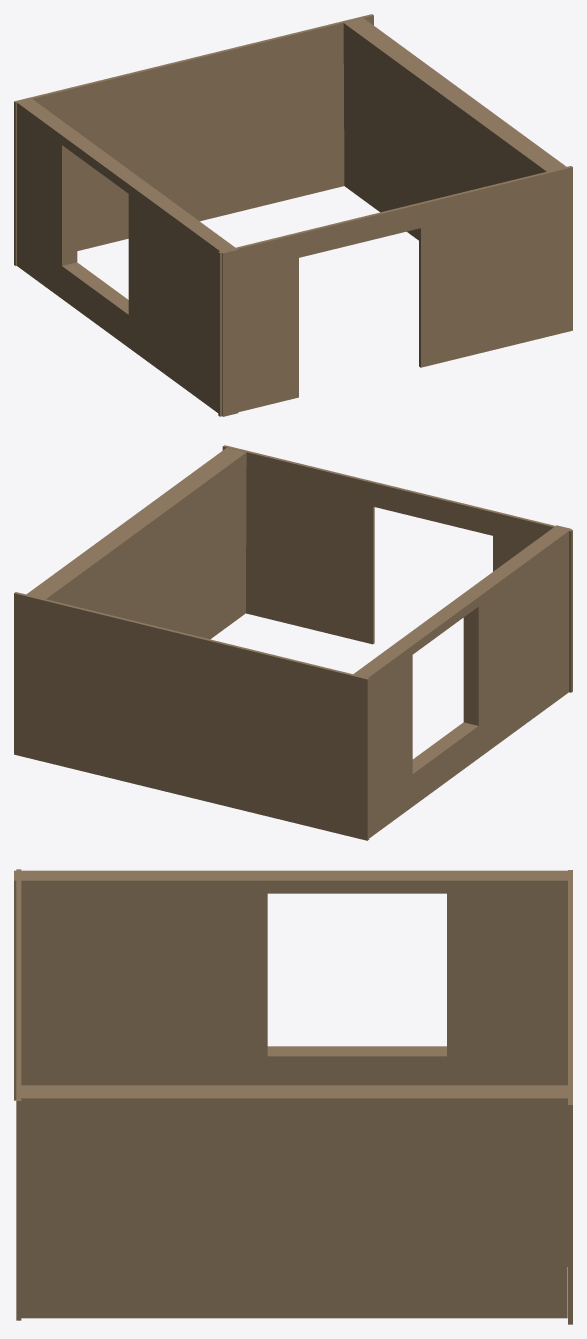
The picture shows the model from 3 angles, top to bottom: view 1: azimuth 30°, elevation 25°; view 2: azimuth 150°, elevation 25°; view 3: azimuth 270°, elevation 25°; orthographic projection. The views are drawn at different scales.
Visible parts, largest first — view 1: MD-明墙; view 2: MD-明墙; view 3: MD-明墙.
Part boxes in pixels (x1,y1,x2,y2): MD-明墙: [14, 14, 572, 416]; MD-明墙: [14, 445, 572, 840]; MD-明墙: [14, 869, 572, 1324].
Size of the model in its own units: 6.24 by 6.26 by 2.71.
